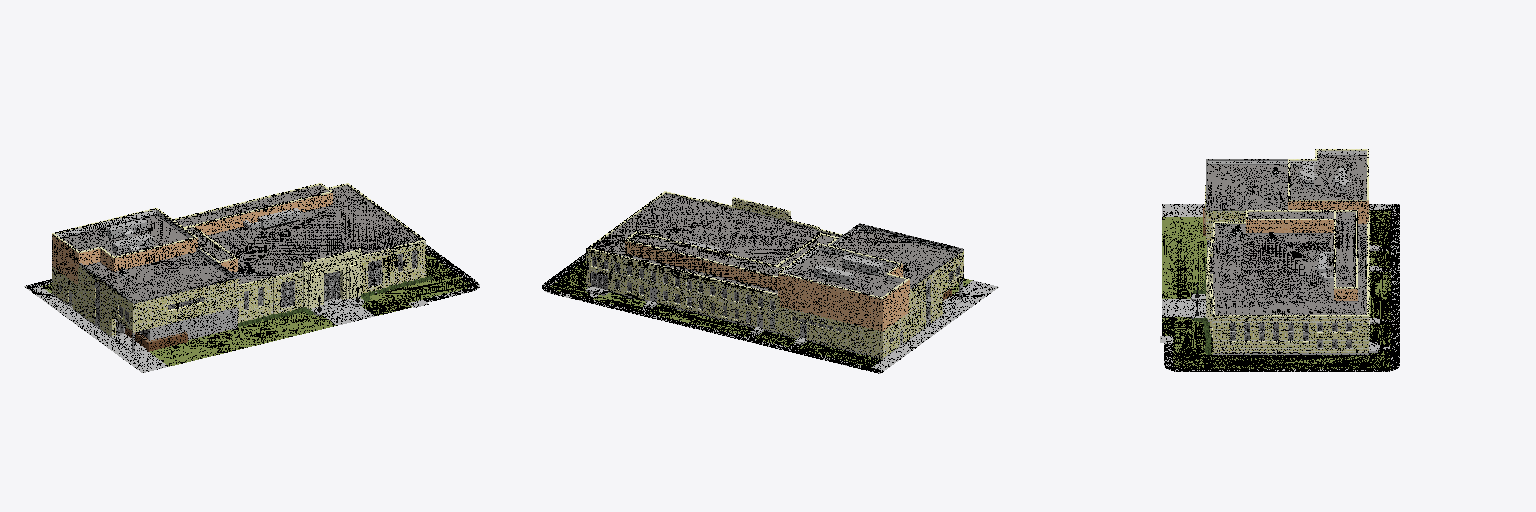
The picture shows the model from 3 angles: view 1: azimuth 30°, elevation 25°; view 2: azimuth 150°, elevation 25°; view 3: azimuth 270°, elevation 25°; orthographic projection.
Visible parts, largest first — view 1: Mesh228 Group1 Model, Mesh6 Roof_Unit_1_1 Group1 Model; view 2: Mesh228 Group1 Model; view 3: Mesh228 Group1 Model.
Part boxes in pixels (x1,y1,x2,y2): Mesh228 Group1 Model: (24,183,479,372); Mesh6 Roof_Unit_1_1 Group1 Model: (107,219,147,238); Mesh228 Group1 Model: (542,191,998,373); Mesh228 Group1 Model: (1160,149,1399,371).
Bounding box in the file's own units: 55.05 × 9.76 × 33.22.
Materials: 20 (6 with a texture image).